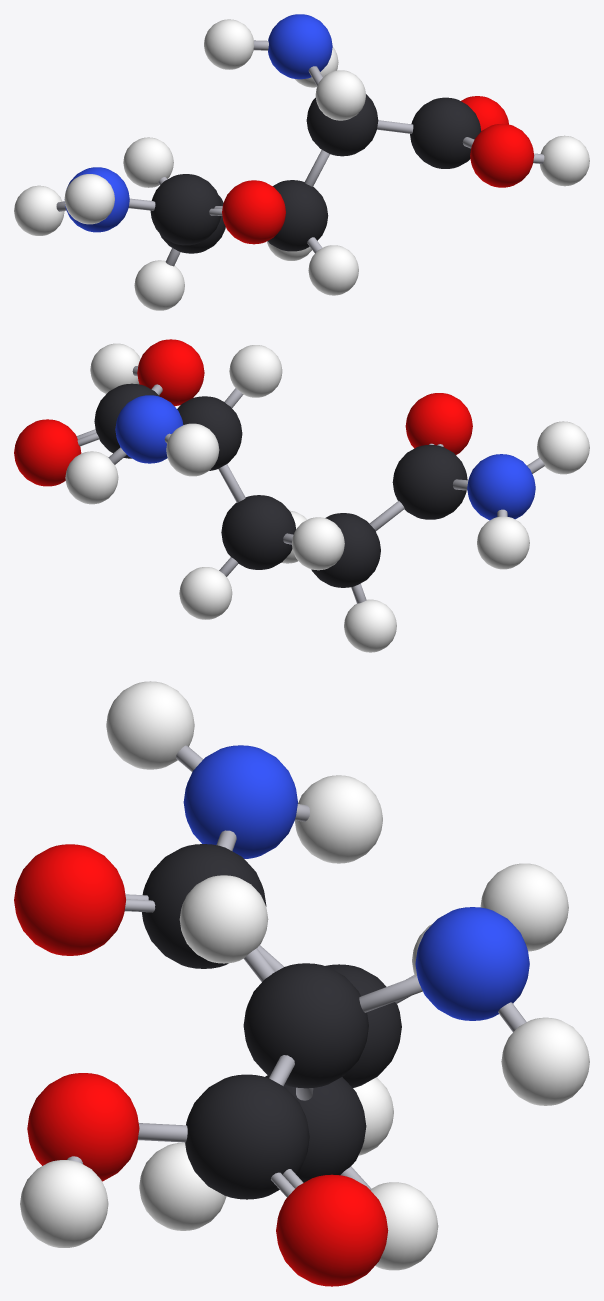
File: glutamine.glb
3 renders of one model, top to bottom at view 1: azimuth 30°, elevation 25°; view 2: azimuth 150°, elevation 25°; view 3: azimuth 270°, elevation 25°, orthographic. The views are drawn at different scales.
Visible parts, largest first — view 1: C4, C7, N0, O6, O9, C2, C1, H12, H13, H11, H17, H16 (+8 smaller); view 2: C2, C4, N5, O8, N0, O9, O6, C3, C1, H10, H11, H18 (+8 smaller); view 3: C7, C1, N0, O6, O8, N5, O9, C4, H10, H19, H12, H17 (+9 smaller).
Part boxes in pixels (x1=…): C4: x1=150, y1=174, x2=221, y2=245; C7: x1=410, y1=97, x2=481, y2=168; N0: x1=268, y1=14, x2=332, y2=79; O6: x1=222, y1=180, x2=285, y2=244; O9: x1=470, y1=124, x2=534, y2=187; C2: x1=268, y1=180, x2=328, y2=251; C1: x1=306, y1=94, x2=378, y2=156; H12: x1=315, y1=70, x2=365, y2=120; H13: x1=308, y1=245, x2=358, y2=295; H11: x1=204, y1=19, x2=253, y2=69; H17: x1=64, y1=174, x2=114, y2=224; H16: x1=134, y1=260, x2=184, y2=310; C2: x1=221, y1=495, x2=295, y2=569; C4: x1=392, y1=445, x2=467, y2=519; N5: x1=467, y1=454, x2=535, y2=520; O8: x1=14, y1=419, x2=81, y2=486; N0: x1=115, y1=395, x2=183, y2=463; O9: x1=137, y1=339, x2=204, y2=406; O6: x1=405, y1=393, x2=472, y2=454; C3: x1=311, y1=513, x2=380, y2=587; C1: x1=177, y1=396, x2=242, y2=470; H10: x1=65, y1=451, x2=118, y2=504; H11: x1=166, y1=423, x2=219, y2=476; H18: x1=477, y1=516, x2=529, y2=569; C7: x1=185, y1=1074, x2=309, y2=1199; C1: x1=243, y1=963, x2=368, y2=1088; N0: x1=415, y1=907, x2=529, y2=1020; O6: x1=14, y1=844, x2=125, y2=955; O8: x1=276, y1=1174, x2=388, y2=1286; N5: x1=183, y1=745, x2=297, y2=858; O9: x1=27, y1=1073, x2=139, y2=1181; C4: x1=142, y1=844, x2=266, y2=968; H10: x1=501, y1=1017, x2=589, y2=1105; H19: x1=20, y1=1160, x2=108, y2=1247; H12: x1=179, y1=875, x2=268, y2=963; H17: x1=106, y1=681, x2=194, y2=769.
Size of the model in its own units: 8.11 by 3.56 by 4.68.
